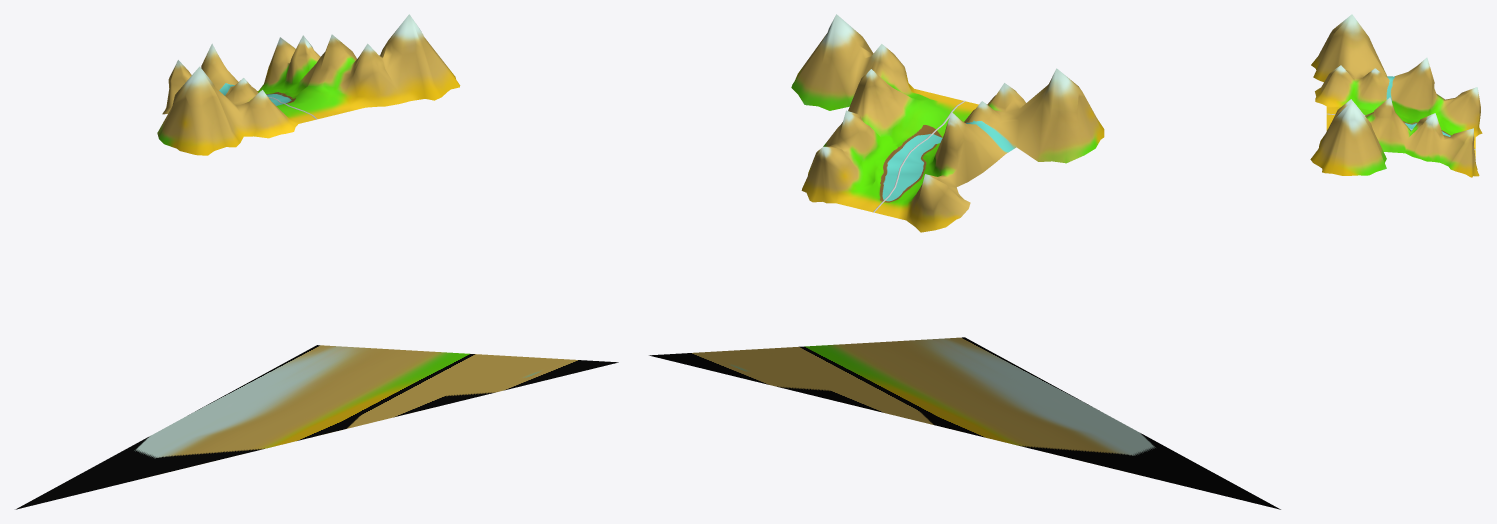
File: L_Mounts.fbx
The picture shows the model from 3 angles, left to right: view 1: azimuth 30°, elevation 25°; view 2: azimuth 150°, elevation 25°; view 3: azimuth 270°, elevation 25°; orthographic projection. The views are drawn at different scales.
Visible parts, largest first — view 1: Obj, LocMount; view 2: LocMount, Obj; view 3: LocMount.
Boxes of the visible parts, x1,y1,x2,y2 form: Obj: (15,345,618,509); LocMount: (157,14,460,155); LocMount: (791,14,1104,232); Obj: (649,337,1280,509); LocMount: (1310,14,1482,177).
Size of the model in its own units: 200 by 122 by 57.77.
